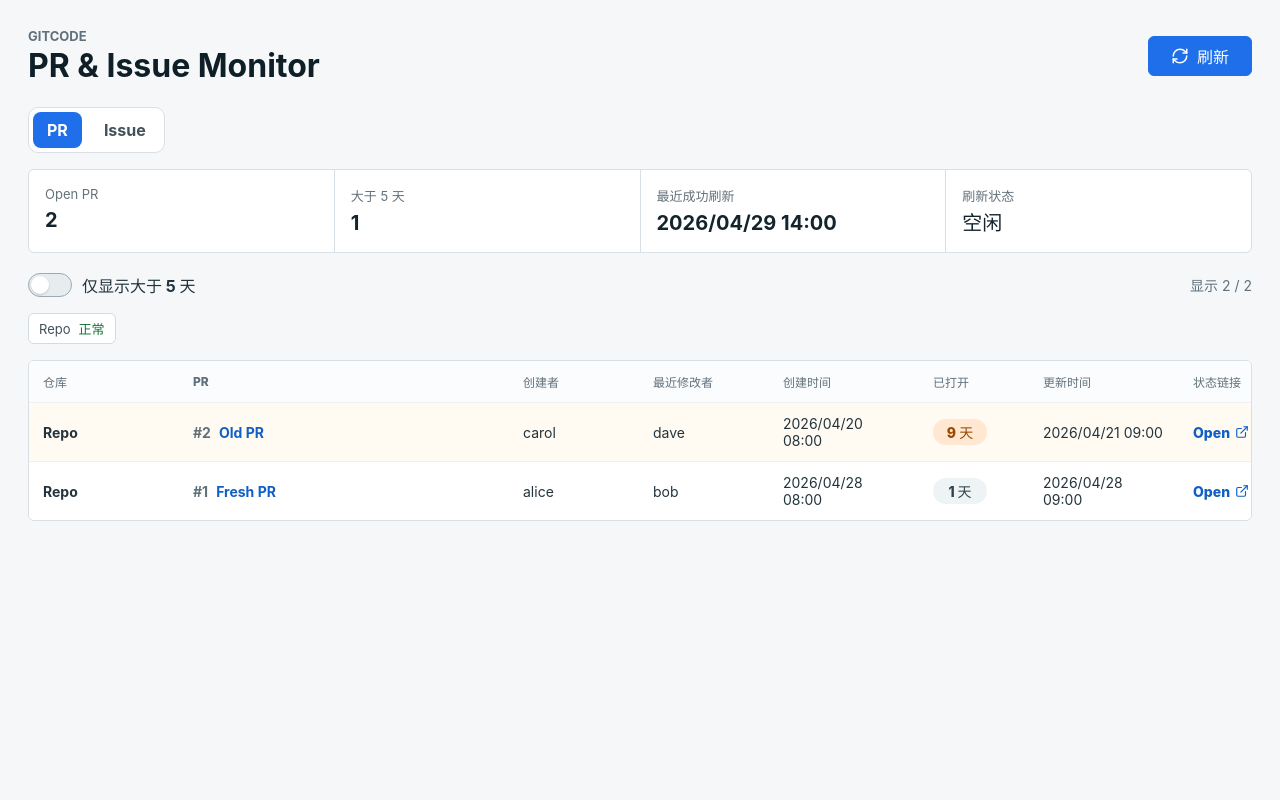
Scenario: App › switches to issues and filters old bug issues
The image size is (1280, 800).
Expected: the link "#1Fresh PR" is shown, [193,483,276,500]
Step 1. Click the button "Issue" → [125, 130], box [90,112,160,148]
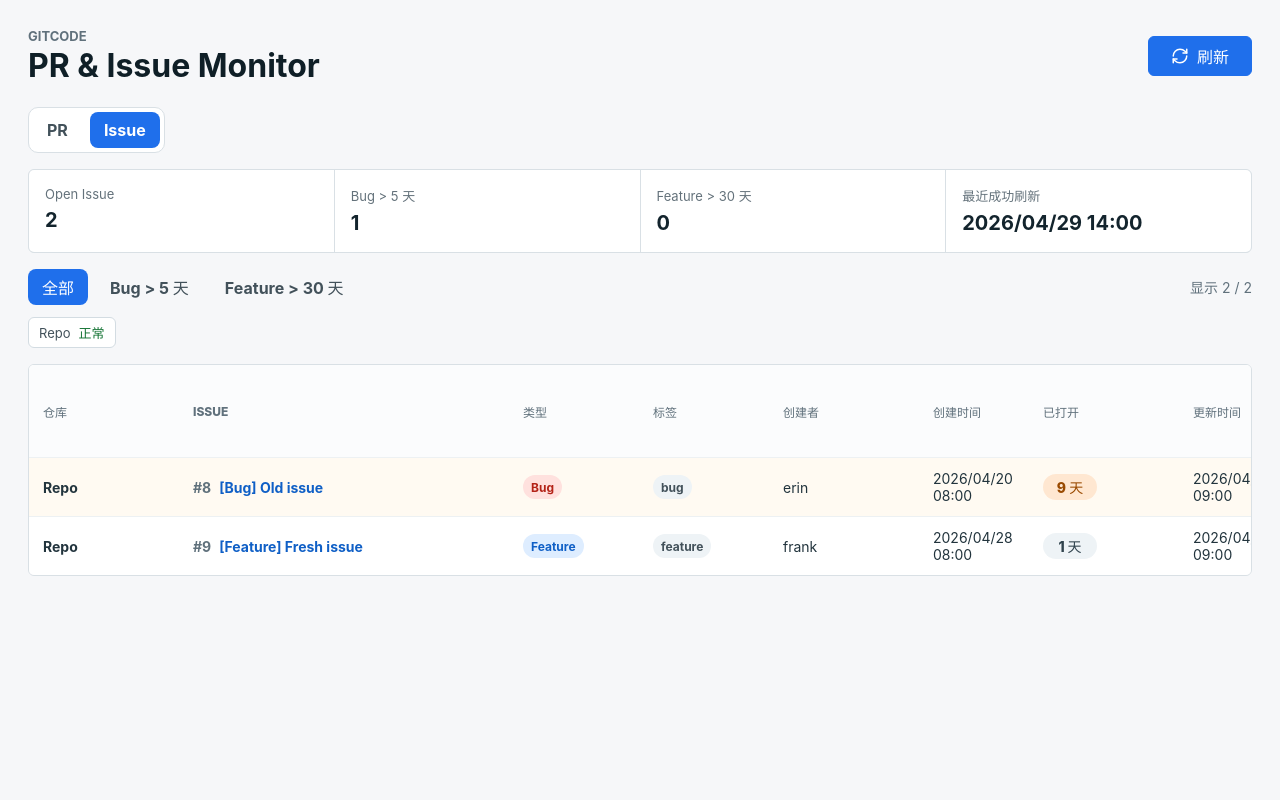
Result: the link "#8[Bug] Old issue" is shown at [193,479,323,496]
Result: the link "#9[Feature] Fresh issue" is shown at [193,538,363,555]
Step 2. Click the button "Bug > 5 天" → [149, 287], box [96,269,203,305]
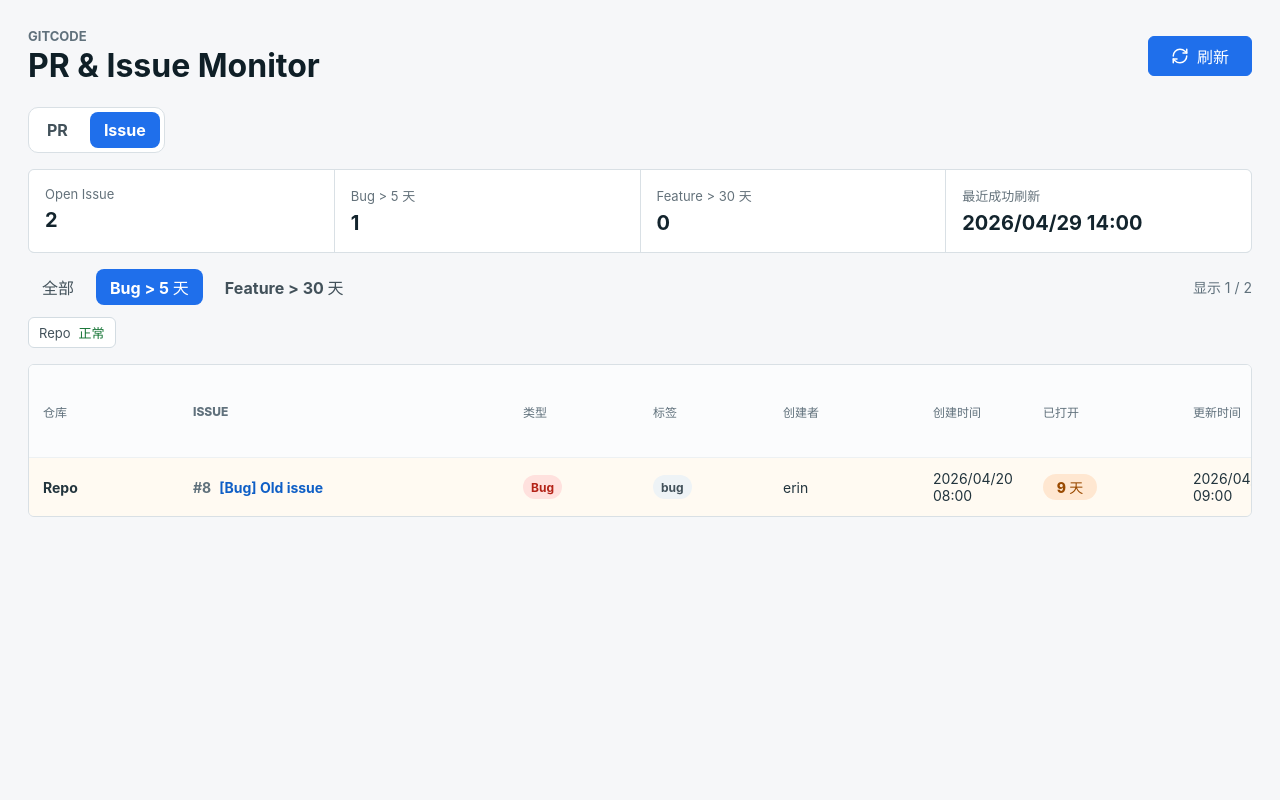
Result: the link "#8[Bug] Old issue" is shown at [193,479,323,496]
Result: the link "[Feature] Fresh issue" is gone
